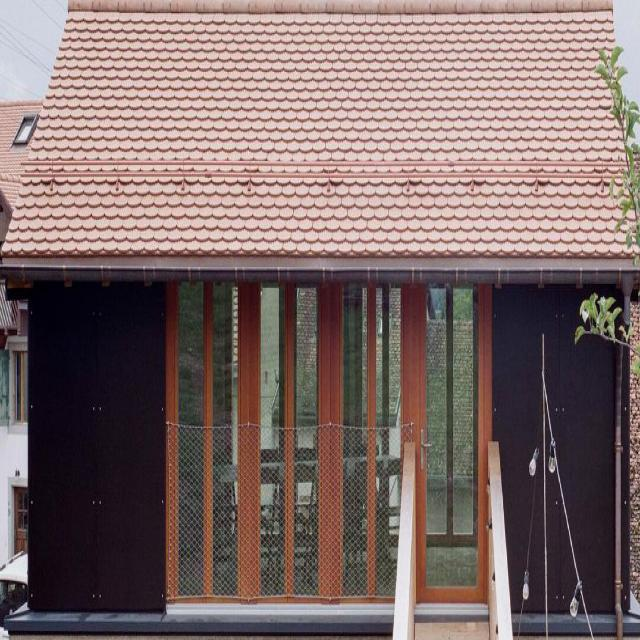door: (418, 283, 492, 607)
window: (167, 272, 493, 610)
